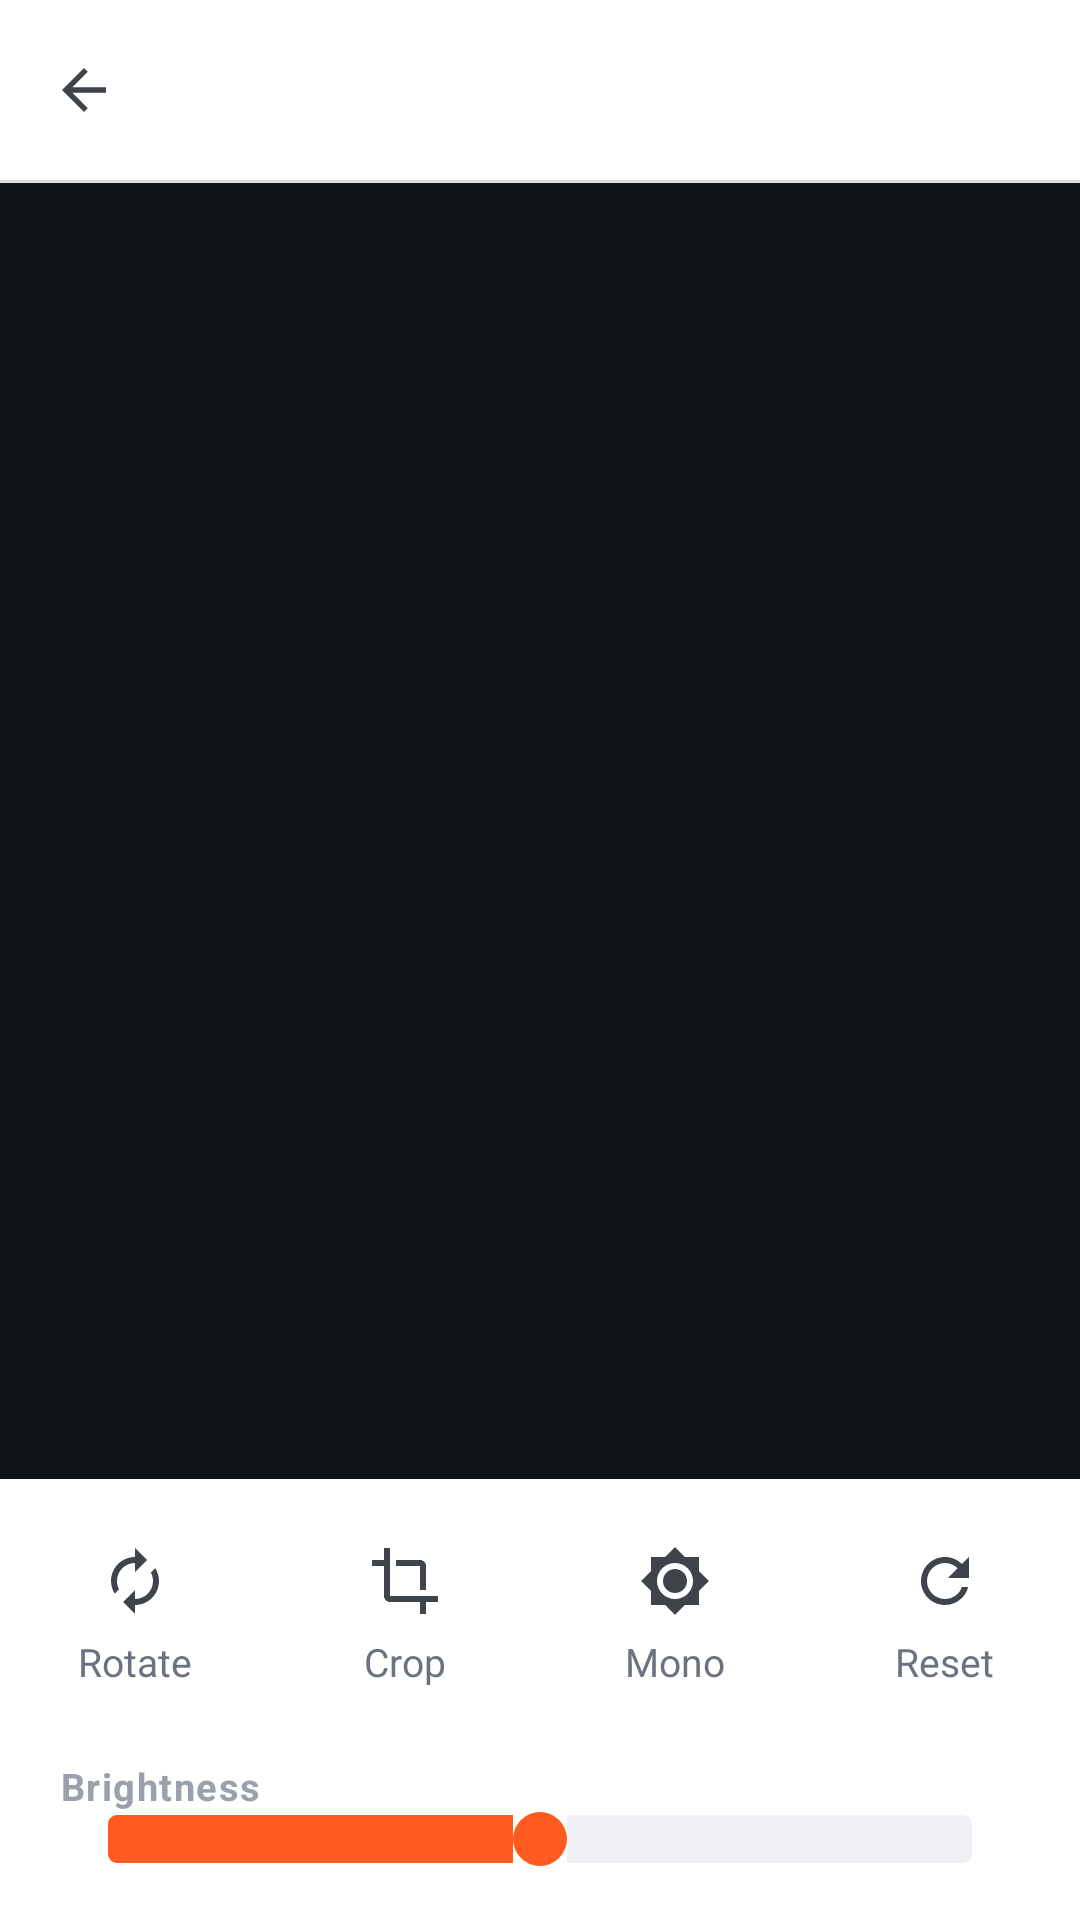

Locate icon controls on the screen. Image size 1080 × 1920, boxes as {"x1": x1, "y1": y1, "x2": x2, "y2": y2}.
Cancel: {"x1": 62, "y1": 68, "x2": 106, "y2": 112}
